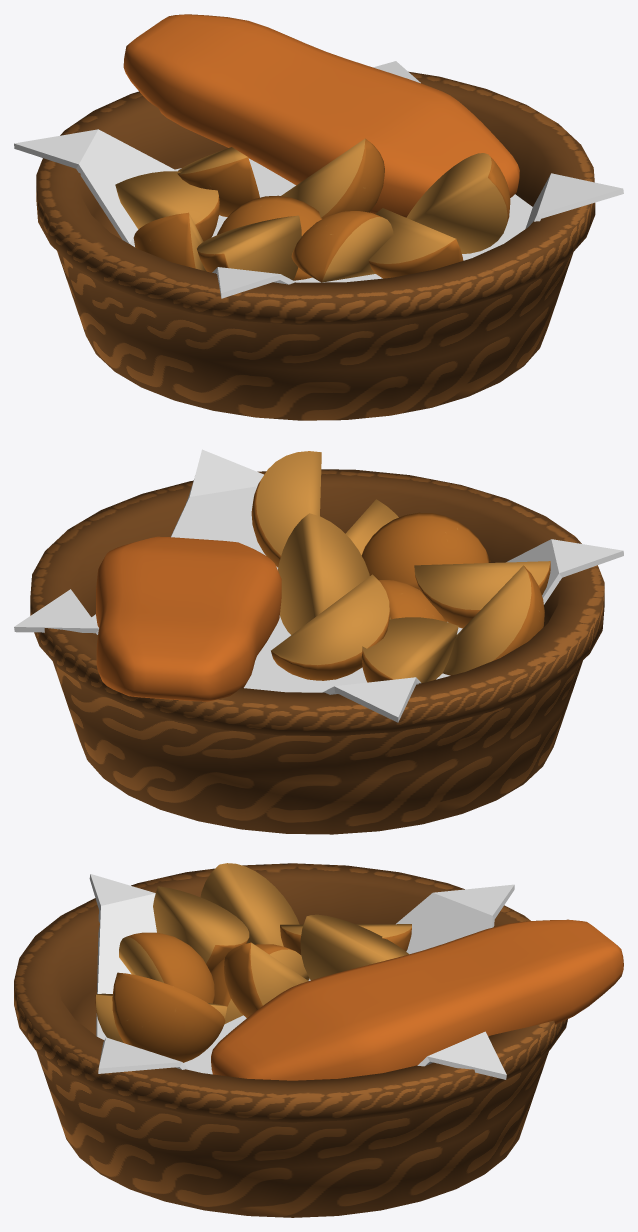
Rendered from FishAndChips.fbx.
3 renders of one model, top to bottom at view 1: azimuth 30°, elevation 25°; view 2: azimuth 150°, elevation 25°; view 3: azimuth 270°, elevation 25°, orthographic. The views are drawn at different scales.
Visible parts, largest first — view 1: FihBasket, FishFillet, FihPaper, Chips.003, Chips.002, Chips.009, Chips.001, Chips.006, Chips.004, Chips.008, Chips, Chips.005; view 2: FihBasket, FishFillet, FihPaper, Chips.008, Chips.009, Chips.002, Chips, Chips.003, Chips.001, Chips.006, Chips.005, Chips.004; view 3: FihBasket, FishFillet, FihPaper, Chips.003, Chips.001, Chips, Chips.008, Chips.002, Chips.009, Chips.005, Chips.006, Chips.004.
Part boxes in pixels (box(x1,y1,x2,y2)): FihBasket: box(36, 71, 595, 420); FishFillet: box(123, 14, 519, 217); FihPaper: box(14, 61, 623, 298); Chips.003: box(406, 153, 510, 253); Chips.002: box(291, 211, 393, 282); Chips.009: box(281, 138, 384, 218); Chips.001: box(197, 215, 301, 280); Chips.006: box(115, 171, 219, 241); Chips.004: box(368, 208, 463, 278); Chips.008: box(177, 147, 259, 217); Chips: box(133, 212, 206, 271); Chips.005: box(217, 195, 321, 280); FihBasket: box(30, 469, 604, 834); FishFillet: box(96, 536, 281, 701); FihPaper: box(14, 449, 623, 722); Chips.008: box(271, 574, 389, 680); Chips.009: box(278, 513, 369, 634); Chips.002: box(361, 512, 490, 589); Chips: box(443, 565, 544, 675); Chips.003: box(251, 451, 321, 567); Chips.001: box(414, 561, 550, 628); Chips.006: box(361, 617, 458, 682); Chips.005: box(378, 580, 446, 621); Chips.004: box(345, 499, 398, 555); FihBasket: box(14, 863, 567, 1217); FishFillet: box(211, 919, 623, 1080); FihPaper: box(89, 874, 514, 1079); Chips.003: box(112, 972, 225, 1062); Chips.001: box(153, 886, 249, 972); Chips: box(200, 863, 299, 946); Chips.008: box(300, 914, 408, 980); Chips.002: box(119, 932, 214, 1003); Chips.009: box(224, 942, 308, 1017); Chips.005: box(211, 944, 309, 1023); Chips.006: box(280, 924, 411, 954); Chips.004: box(95, 993, 227, 1042).
Size of the model in its own units: 63.59 by 24.21 by 69.59.
4 materials, 3 textured.
